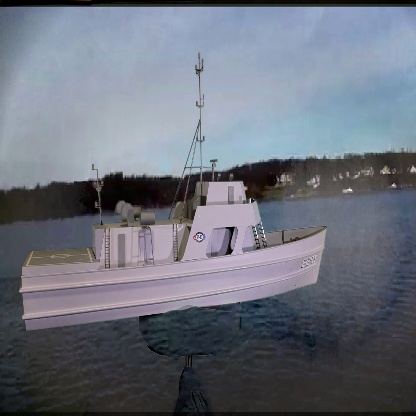YP689: (21, 57, 323, 334)
